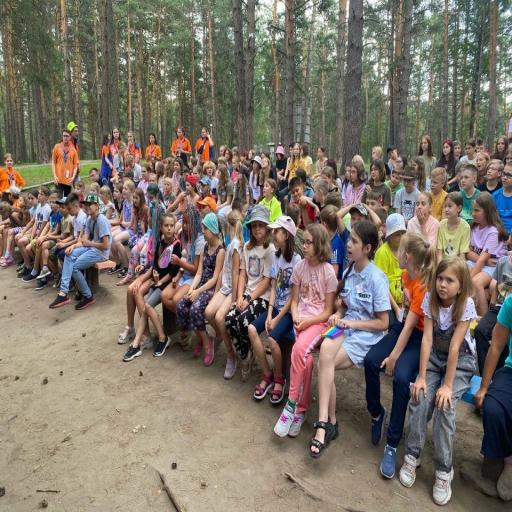hole: (310, 222, 390, 457), (400, 258, 476, 504), (364, 233, 436, 478), (274, 224, 337, 437), (248, 216, 301, 403), (118, 215, 180, 361), (226, 205, 275, 381), (176, 213, 225, 366), (475, 297, 511, 501), (50, 195, 111, 310), (205, 210, 244, 379), (467, 192, 508, 315), (162, 207, 205, 312), (475, 255, 511, 375), (374, 214, 406, 325), (18, 186, 51, 278), (109, 180, 135, 274), (437, 192, 470, 260), (52, 128, 78, 196), (407, 192, 438, 247), (362, 159, 391, 211), (394, 167, 419, 225), (493, 162, 511, 232), (0, 153, 25, 200), (460, 165, 479, 222), (436, 140, 458, 187), (428, 168, 447, 221), (260, 178, 282, 223), (343, 161, 365, 206), (478, 160, 503, 194), (98, 133, 114, 186), (171, 126, 191, 166), (285, 143, 306, 180), (67, 121, 80, 180), (386, 170, 403, 214), (419, 135, 436, 177), (412, 157, 430, 191), (195, 128, 213, 161), (475, 153, 490, 184), (127, 131, 141, 164), (146, 133, 161, 162), (491, 136, 508, 161), (460, 138, 476, 164), (312, 146, 326, 175), (301, 143, 312, 177)
